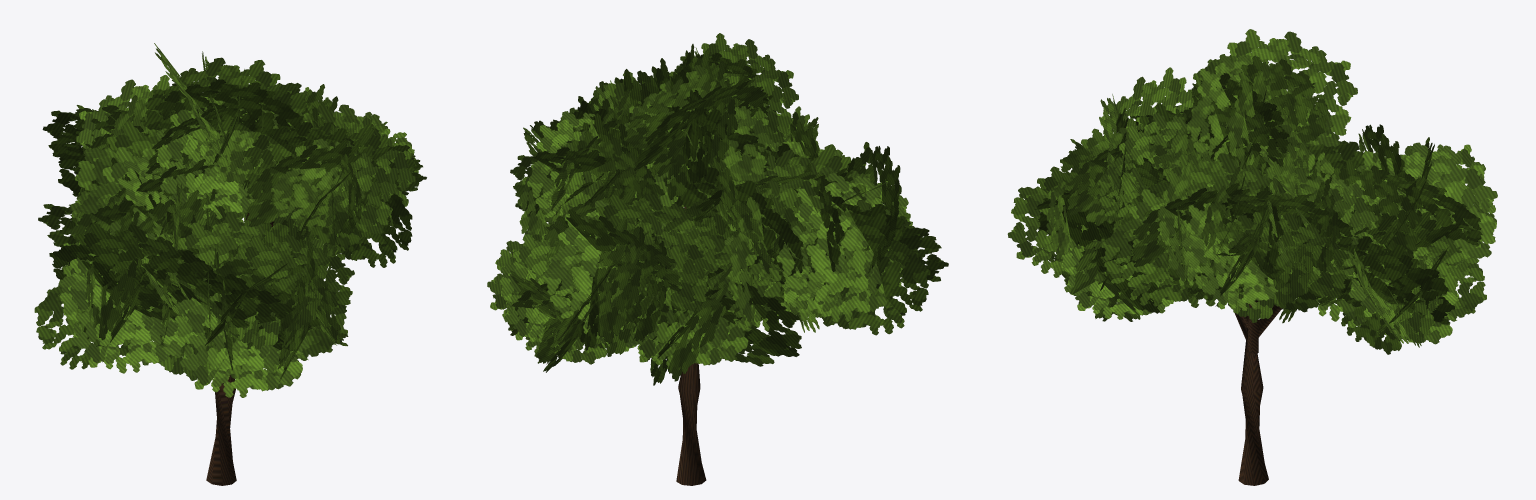
File: oak2.glb
3 renders of one model, left to right at view 1: azimuth 30°, elevation 25°; view 2: azimuth 150°, elevation 25°; view 3: azimuth 270°, elevation 25°, orthographic.
Parts seen in each view (by area): view 1: Rameaux feuillus oak2, Tronc et branches oak2; view 2: Rameaux feuillus oak2, Tronc et branches oak2; view 3: Rameaux feuillus oak2, Tronc et branches oak2.
Part boxes in pixels (x1=…): Rameaux feuillus oak2: x1=34, y1=43, x2=426, y2=397; Tronc et branches oak2: x1=206, y1=213, x2=274, y2=485; Rameaux feuillus oak2: x1=487, y1=33, x2=948, y2=385; Tronc et branches oak2: x1=676, y1=206, x2=706, y2=485; Rameaux feuillus oak2: x1=1007, y1=29, x2=1497, y2=354; Tronc et branches oak2: x1=1234, y1=296, x2=1328, y2=485.
Size of the model in its own units: 14.47 by 13.83 by 15.37.
Materials: 2 (2 with a texture image).
